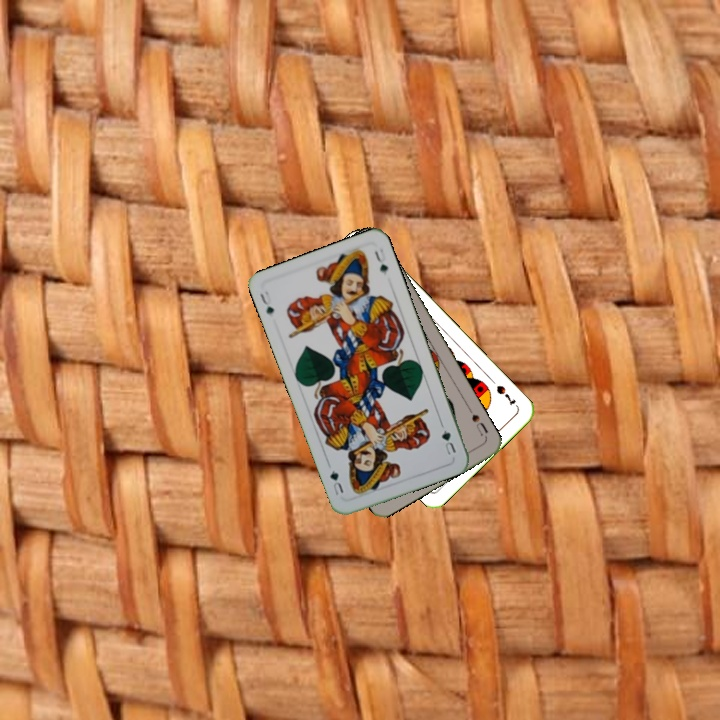GU: (437, 426, 459, 458), (256, 287, 277, 317)
S7: (492, 381, 519, 408)
SU: (464, 404, 491, 438)
